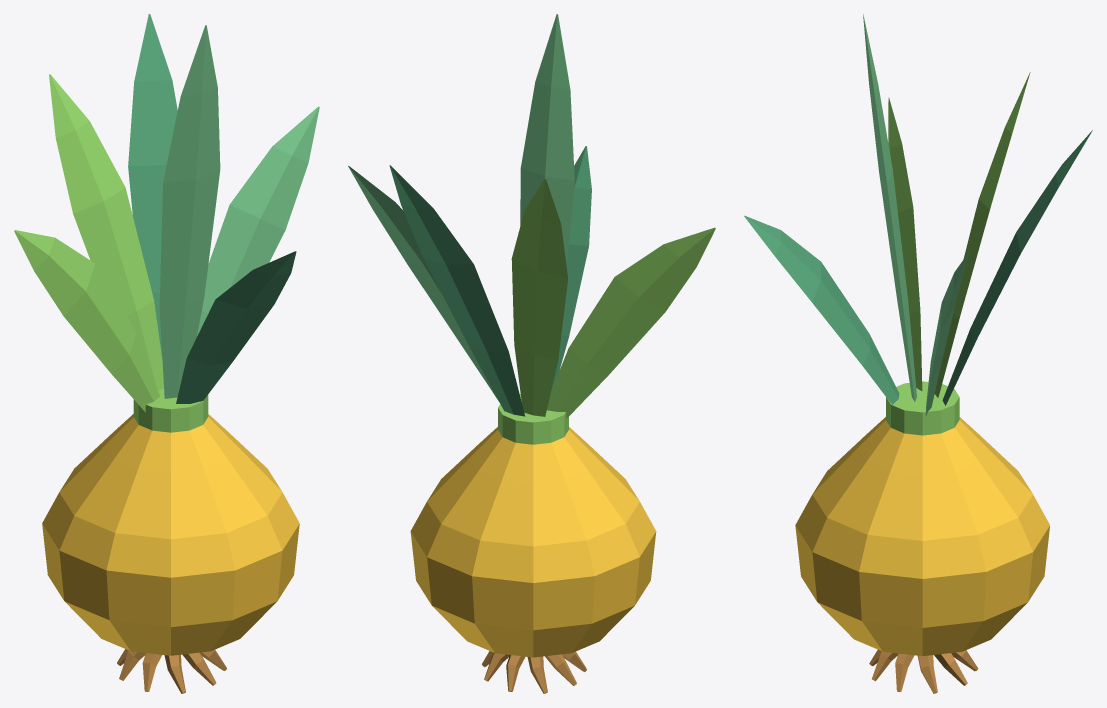
File: 03-onion.glb
3 views of the same model, side by side, from view 1: azimuth 30°, elevation 25°; view 2: azimuth 150°, elevation 25°; view 3: azimuth 270°, elevation 25° (orthographic). The views are drawn at different scales.
Visible parts, largest first — view 1: 03-onion_Body; view 2: 03-onion_Body; view 3: 03-onion_Body.
Boxes of the visible parts, <box> form: 03-onion_Body: <box>14,14,319,693</box>; 03-onion_Body: <box>348,14,715,693</box>; 03-onion_Body: <box>744,14,1092,693</box>.
Bounding box in the file's own units: 0.2518 × 0.4648 × 0.2223.
Materials: 1 (1 with a texture image).
